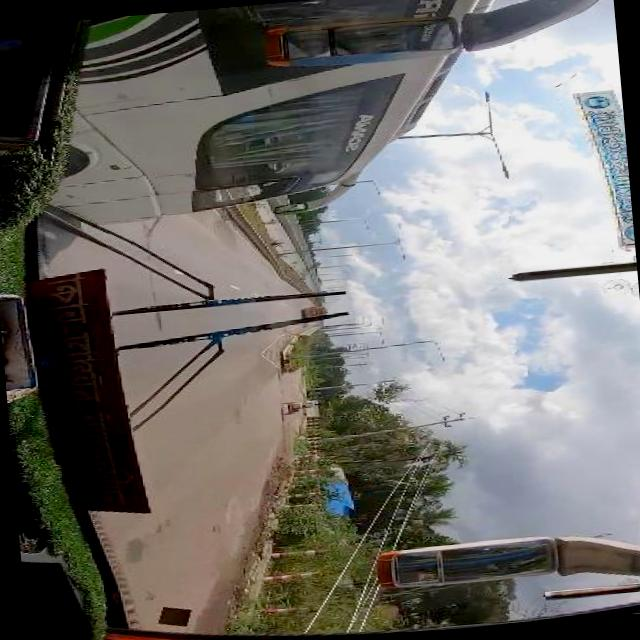bus: (39, 0, 515, 230), (305, 306, 329, 318)
